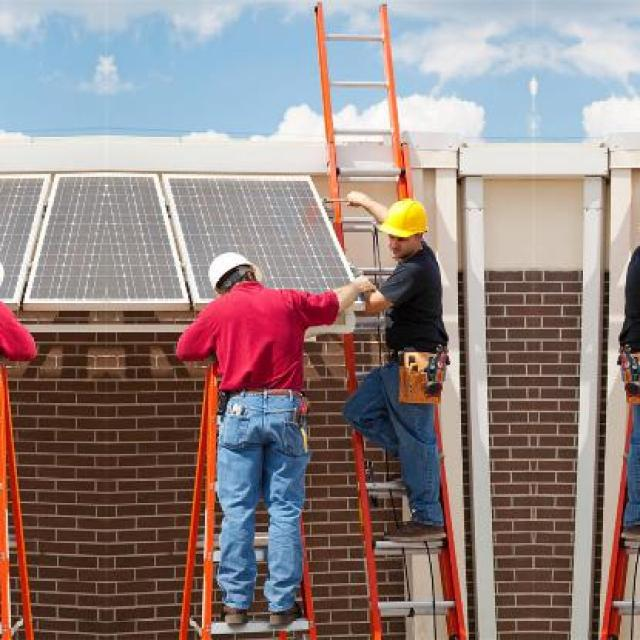helmet: (376, 192, 431, 257), (203, 245, 254, 293)
